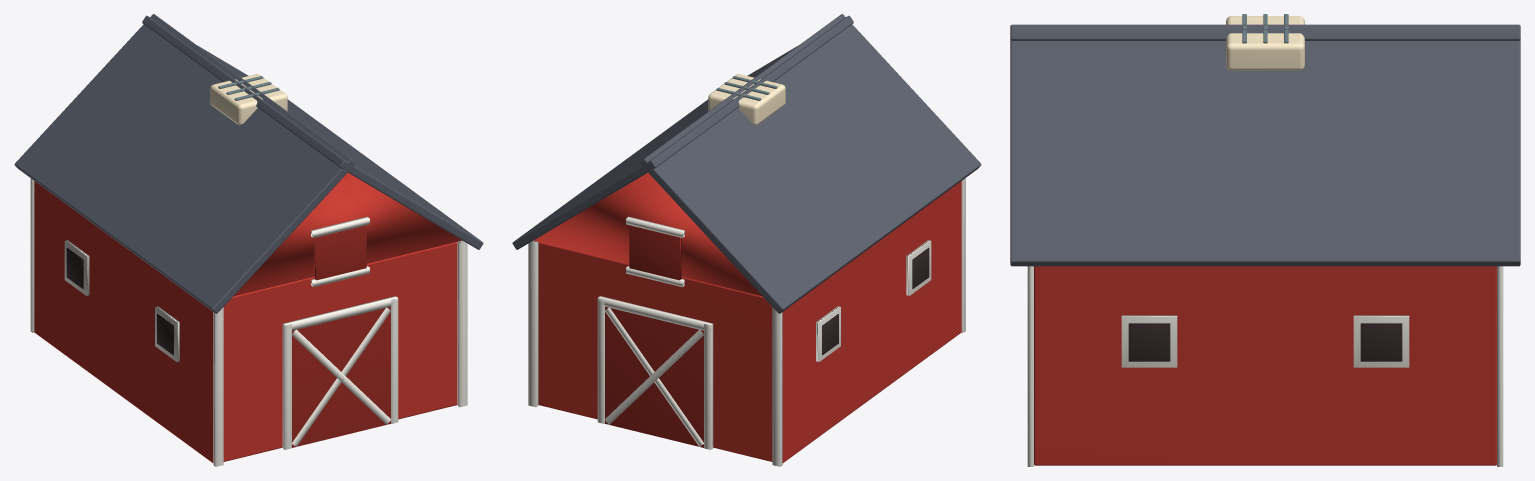
The model's file is barn_mobile.glb.
3 renders of one model, left to right at view 1: azimuth 30°, elevation 25°; view 2: azimuth 150°, elevation 25°; view 3: azimuth 270°, elevation 25°, orthographic. The views are drawn at different scales.
Visible parts, largest first — view 1: Barn, CraftDetails; view 2: Barn, CraftDetails; view 3: Barn, CraftDetails.
Boxes of the visible parts, <box> form: Barn: <box>14,14,483,466</box>; CraftDetails: <box>210,74,287,125</box>; Barn: <box>512,14,981,466</box>; CraftDetails: <box>708,74,785,125</box>; Barn: <box>1010,24,1520,466</box>; CraftDetails: <box>1226,14,1304,70</box>.
Size of the model in its own units: 8.67 by 8.59 by 11.
